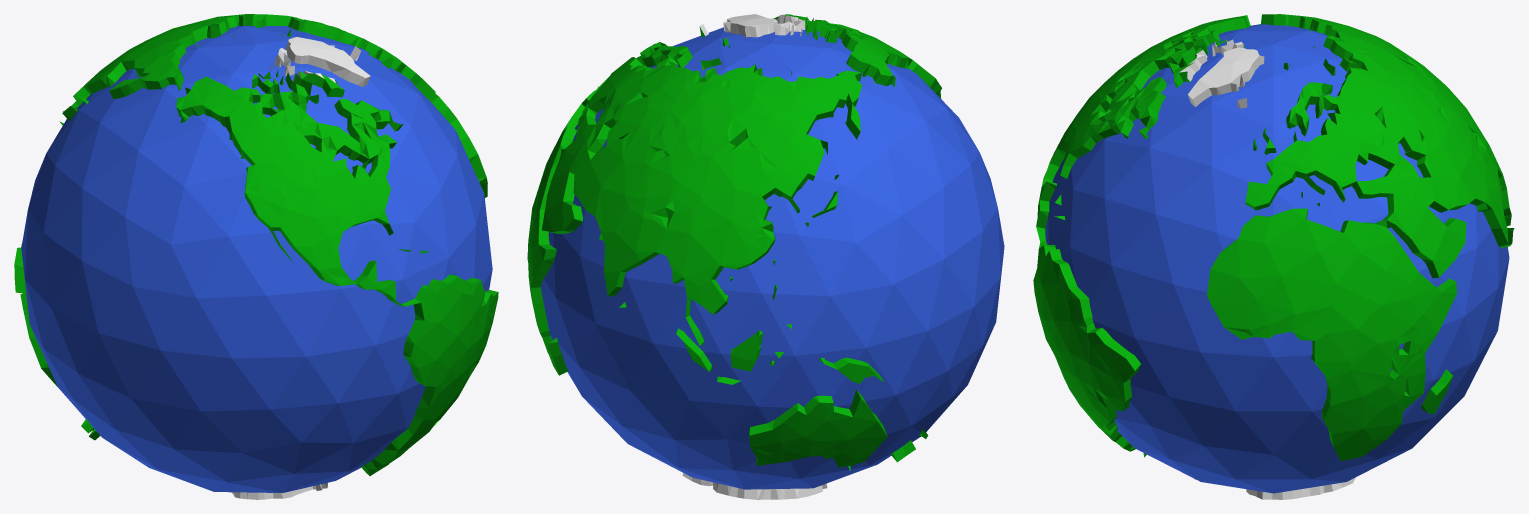
File: LowPolyEarth.glb
The picture shows the model from 3 angles, left to right: view 1: azimuth 30°, elevation 25°; view 2: azimuth 150°, elevation 25°; view 3: azimuth 270°, elevation 25°; orthographic projection.
Parts seen in each view (by area): view 1: Ocean, Earth; view 2: Ocean, Earth; view 3: Ocean, Earth.
Boxes of the visible parts, x1,y1,x2,y2 form: Ocean: (21,25,492,492); Earth: (14,14,498,499); Ocean: (541,27,1004,489); Earth: (527,14,941,499); Ocean: (1045,24,1509,493); Earth: (1033,14,1514,499).
Size of the model in its own units: 2.1 by 2.14 by 2.12.
